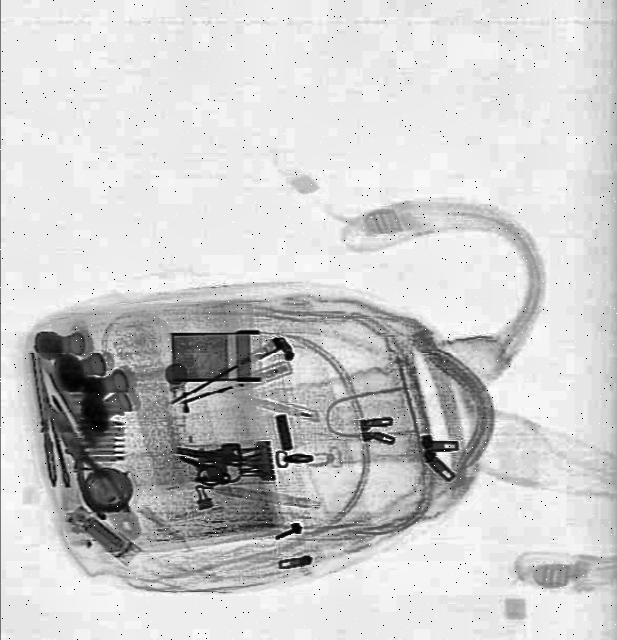Pliers: (32, 392, 134, 526)
